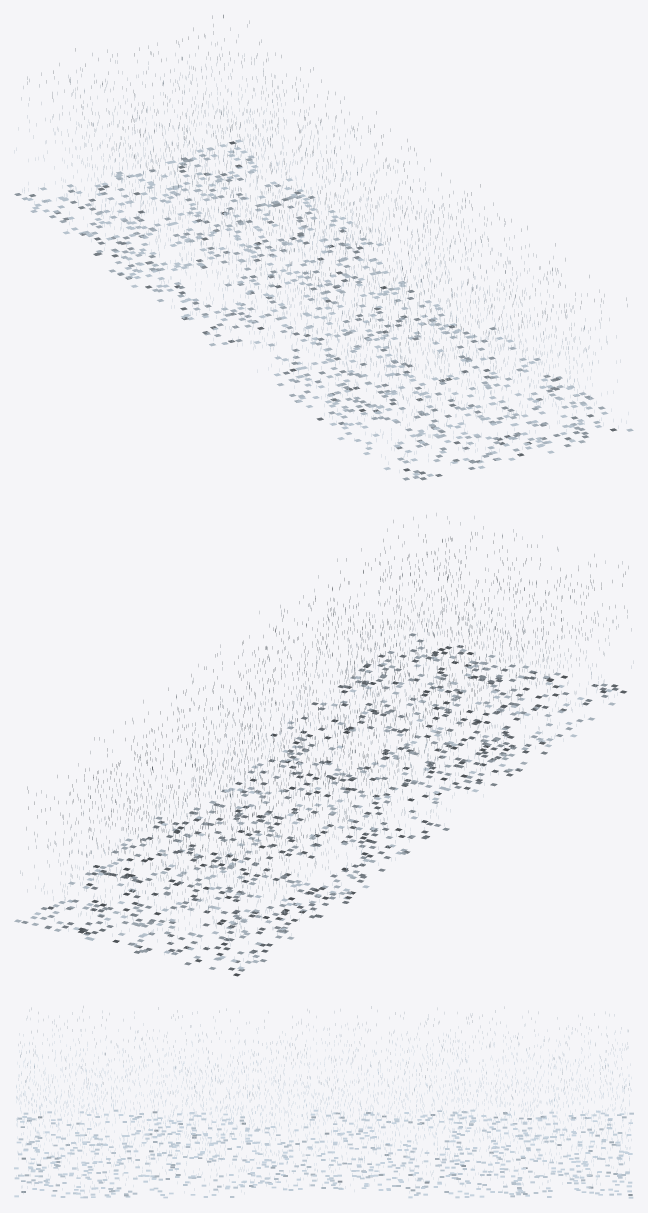
File: Weather.glb
3 views of the same model, one above another, from view 1: azimuth 30°, elevation 25°; view 2: azimuth 150°, elevation 25°; view 3: azimuth 270°, elevation 25° (orthographic). The views are drawn at different scales.
Parts seen in each view (by area): view 1: Weather Rain, Weather Splashes; view 2: Weather Rain, Weather Splashes; view 3: Weather Rain, Weather Splashes.
Boxes of the visible parts, x1,y1,x2,y2 form: Weather Rain: (14,14,628,472); Weather Splashes: (14,139,633,480); Weather Rain: (20,513,633,966); Weather Splashes: (14,633,626,976); Weather Rain: (16,1006,631,1195); Weather Splashes: (14,1109,633,1198).
Size of the model in its own units: 14.68 by 8.32 by 43.31.
